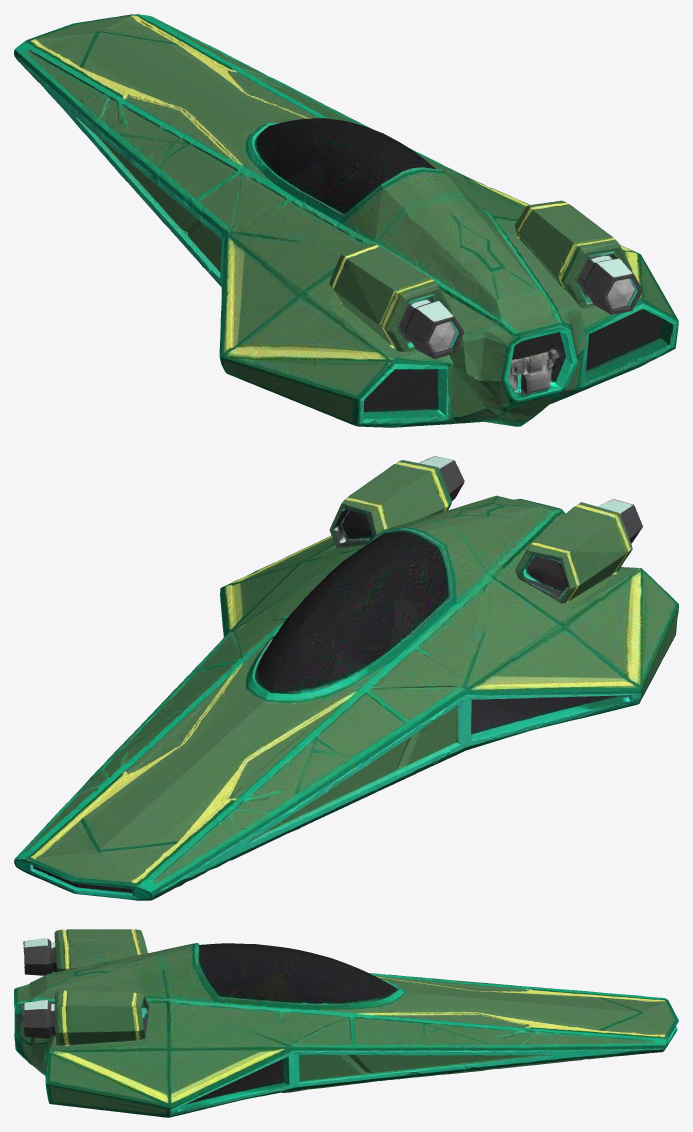
Rendered from viper_md.glb.
3 views of the same model, one above another, from view 1: azimuth 30°, elevation 25°; view 2: azimuth 150°, elevation 25°; view 3: azimuth 270°, elevation 25° (orthographic). The views are drawn at different scales.
Parts seen in each view (by area): view 1: geometry_0; view 2: geometry_0; view 3: geometry_0.
Part boxes in pixels (x1,y1,x2,y2): geometry_0: [14, 14, 678, 427]; geometry_0: [14, 456, 678, 900]; geometry_0: [14, 929, 678, 1117].
Bounding box in the file's own units: 5.6 × 2.27 × 10.8.
1 material, 1 textured.
